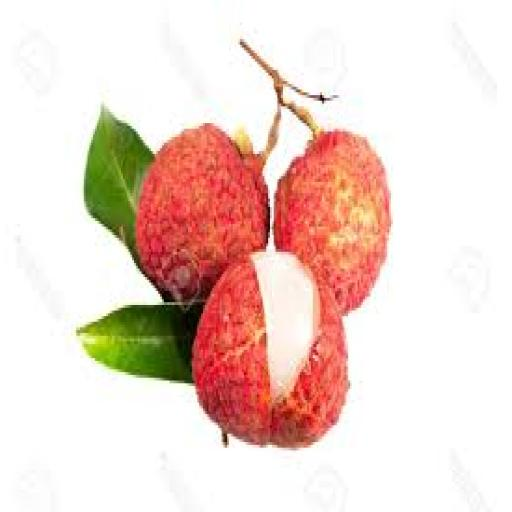lychee: (191, 252, 347, 447), (135, 124, 267, 302), (273, 132, 389, 313)
